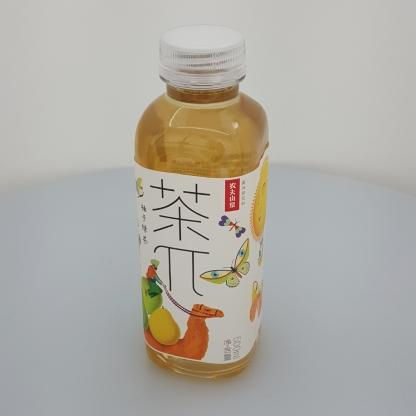------------: (134, 25, 269, 380)
